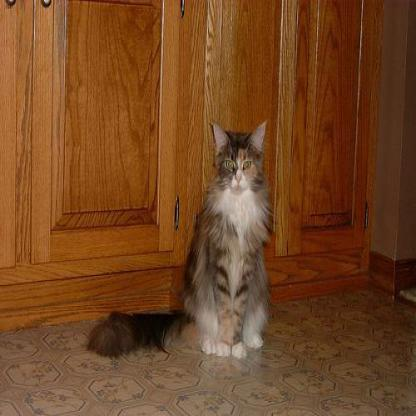cat: (89, 121, 269, 355)
